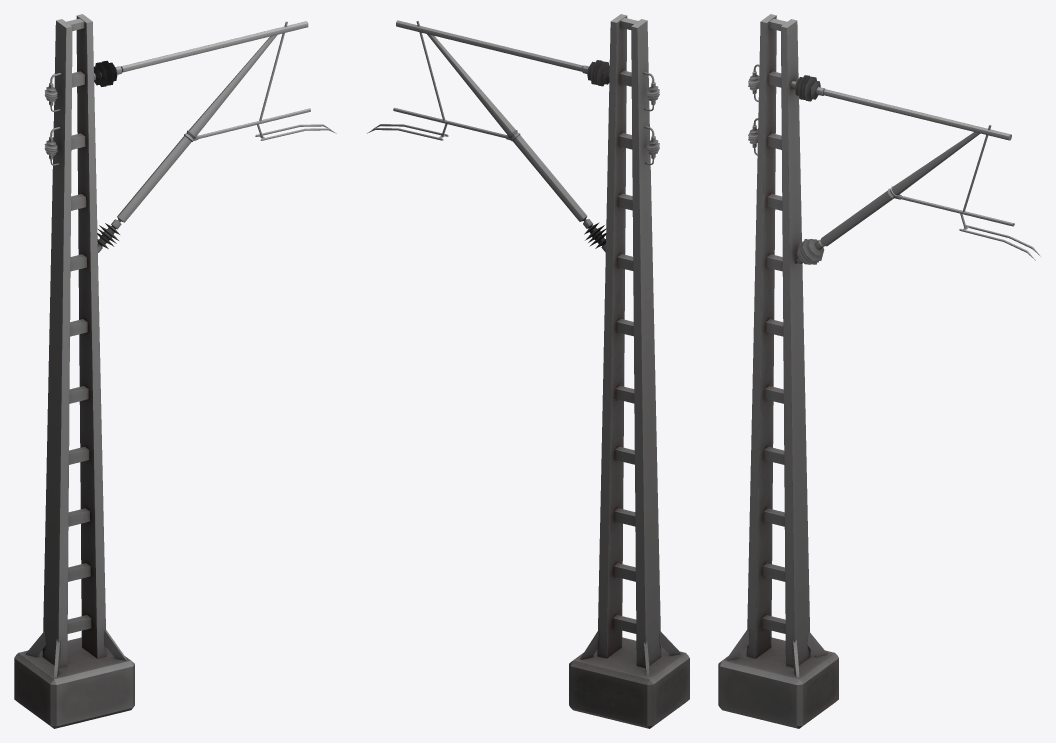
File: SM_electric_pole_noWires.FBX
3 views of the same model, side by side, from view 1: azimuth 30°, elevation 25°; view 2: azimuth 150°, elevation 25°; view 3: azimuth 330°, elevation 25° (orthographic).
Visible parts, largest first — view 1: SM_electric_pole_noWires; view 2: SM_electric_pole_noWires; view 3: SM_electric_pole_noWires.
Part boxes in pixels (left/top/right/bottom): SM_electric_pole_noWires: left=14, top=14, right=336, bottom=728; SM_electric_pole_noWires: left=367, top=14, right=689, bottom=728; SM_electric_pole_noWires: left=718, top=14, right=1040, bottom=728.
Bounding box in the file's own units: 424 × 98.72 × 917.
